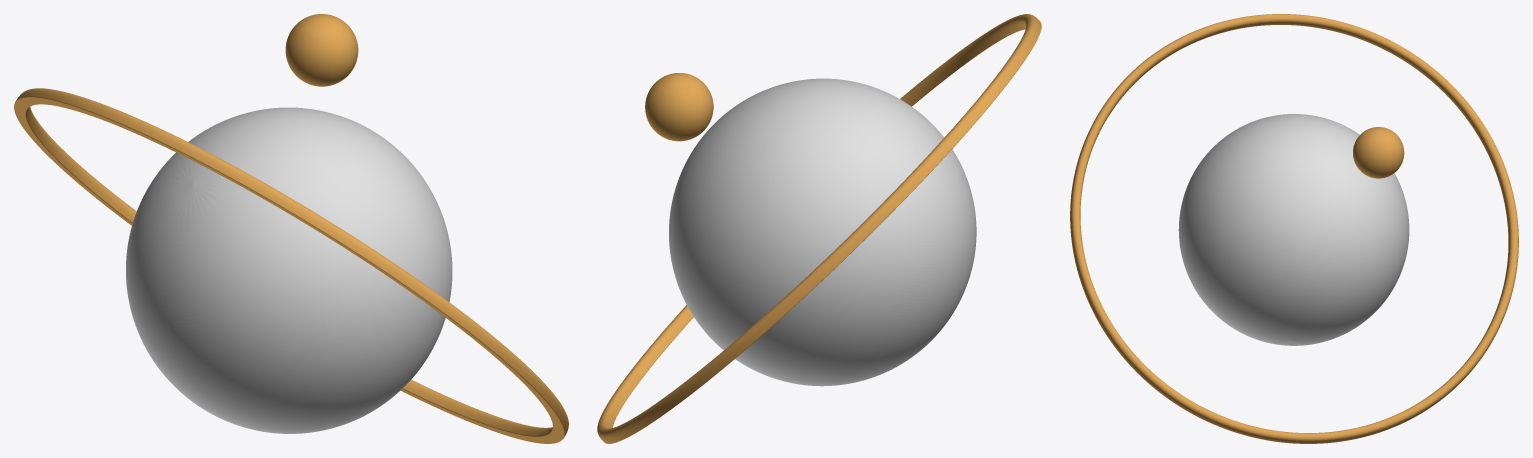
File: Planet.glb
3 renders of one model, left to right at view 1: azimuth 30°, elevation 25°; view 2: azimuth 150°, elevation 25°; view 3: azimuth 270°, elevation 25°, orthographic. The views are drawn at different scales.
Visible parts, largest first — view 1: Sphere, Ring; view 2: Sphere, Ring; view 3: Sphere, Ring.
Boxes of the visible parts, x1,y1,x2,y2 form: Sphere: (126, 107, 452, 433); Ring: (14, 14, 568, 443); Sphere: (669, 78, 976, 386); Ring: (597, 14, 1041, 443); Sphere: (1178, 114, 1409, 345); Ring: (1070, 14, 1518, 443).
Size of the model in its own units: 2.83 by 2.83 by 3.84.
Materials: 2 (1 with a texture image).
